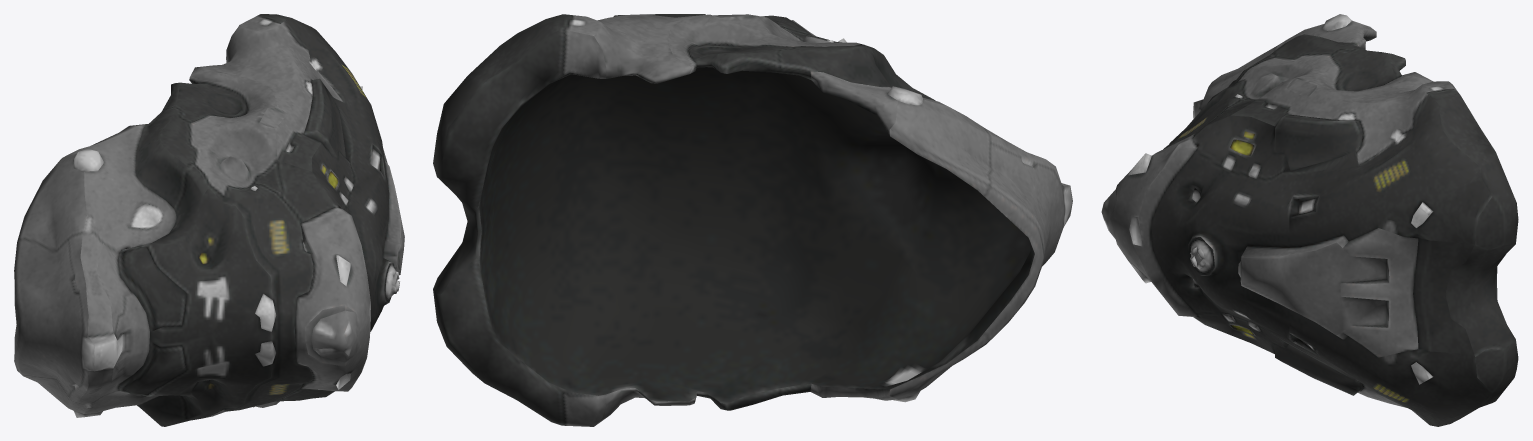
Rendered from F_CyberneticMask.fbx.
3 views of the same model, side by side, from view 1: azimuth 30°, elevation 25°; view 2: azimuth 150°, elevation 25°; view 3: azimuth 270°, elevation 25° (orthographic). The views are drawn at different scales.
Parts seen in each view (by area): view 1: Mask10; view 2: Mask10; view 3: Mask10.
Boxes of the visible parts, x1,y1,x2,y2 form: Mask10: [14, 14, 404, 426]; Mask10: [433, 14, 1072, 426]; Mask10: [1101, 14, 1518, 426].
Bounding box in the file's own units: 0.1682 × 0.1303 × 0.1492.
